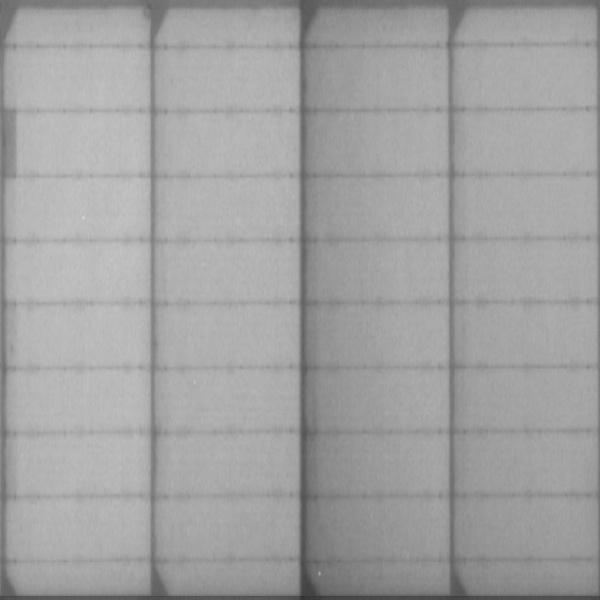black_border: (1, 101, 21, 185)
